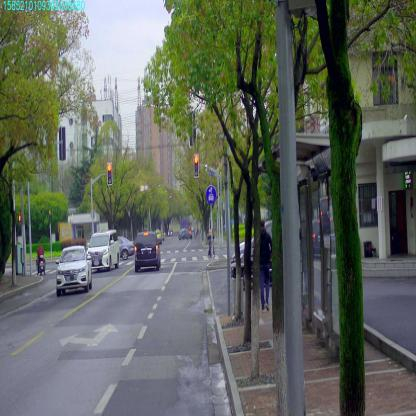traffic-light: (107, 162, 112, 185), (194, 154, 198, 177)
